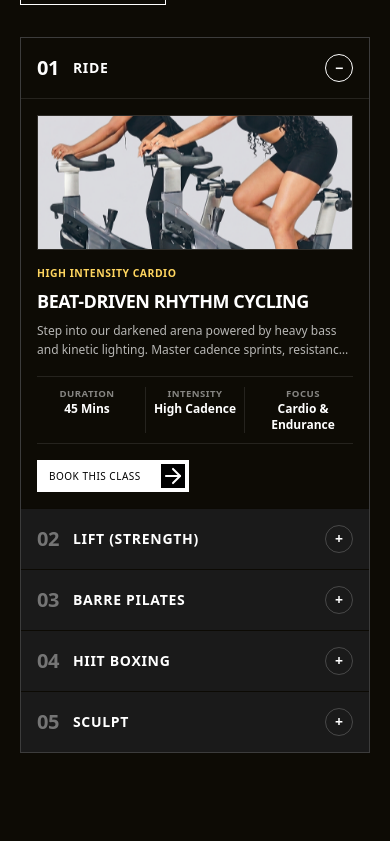
Test: ClassSection Component › toggles accordion item in mobile view
(page scrolled)
# Expand BARRE
Click the button "03 BARRE PILATES +".
click(129, 599)  # box x1=21 y1=570 x2=369 y2=630
(page scrolled)
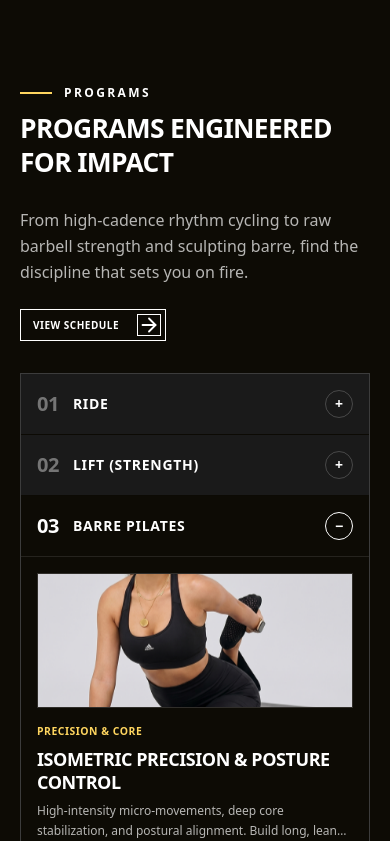
Check: the button "03 BARRE PILATES −" is expanded, box x1=21 y1=496 x2=369 y2=556
